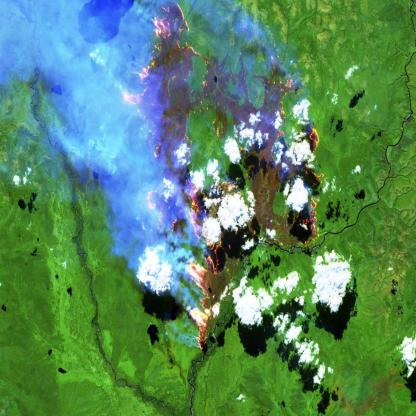fire: (120, 0, 327, 356)
